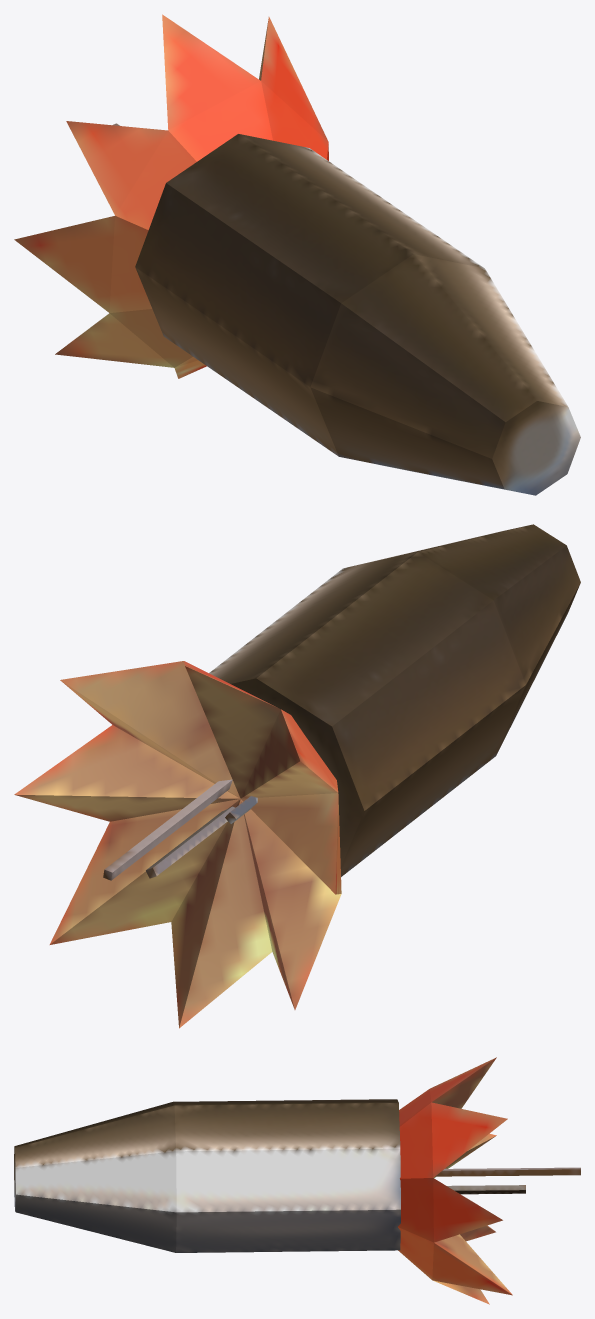
3 renders of one model, top to bottom at view 1: azimuth 30°, elevation 25°; view 2: azimuth 150°, elevation 25°; view 3: azimuth 270°, elevation 25°, orthographic. The views are drawn at different scales.
Parts seen in each view (by area): view 1: Bala_Cylinder.003, Fogonazo_Cylinder.004; view 2: Fogonazo_Cylinder.004, Bala_Cylinder.003, Estela_1_Cube.006, Estela_3_Cube.008; view 3: Bala_Cylinder.003, Fogonazo_Cylinder.004, Estela_1_Cube.006, Estela_3_Cube.008.
Boxes of the visible parts, x1,y1,x2,y2 form: Bala_Cylinder.003: [135, 134, 580, 495]; Fogonazo_Cylinder.004: [14, 14, 328, 378]; Fogonazo_Cylinder.004: [14, 661, 341, 1028]; Bala_Cylinder.003: [209, 524, 580, 876]; Estela_1_Cube.006: [103, 779, 232, 880]; Estela_3_Cube.008: [146, 806, 235, 878]; Bala_Cylinder.003: [14, 1099, 400, 1252]; Fogonazo_Cylinder.004: [398, 1057, 512, 1304]; Estela_1_Cube.006: [435, 1167, 580, 1176]; Estela_3_Cube.008: [447, 1185, 525, 1194].
Bounding box in the file's own units: 0.4234 × 0.4719 × 0.9936.
